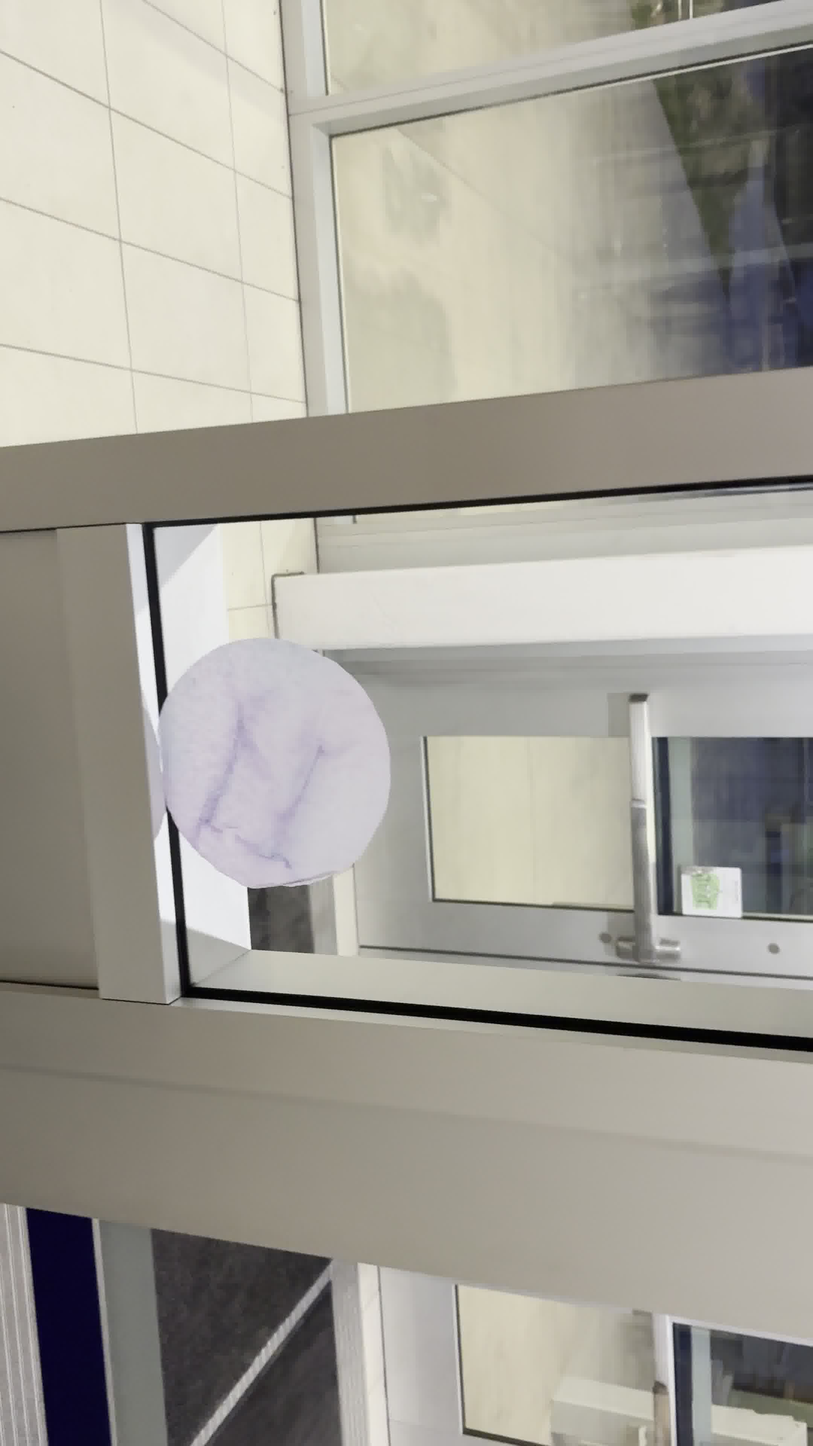Target: (153, 635, 393, 892)
